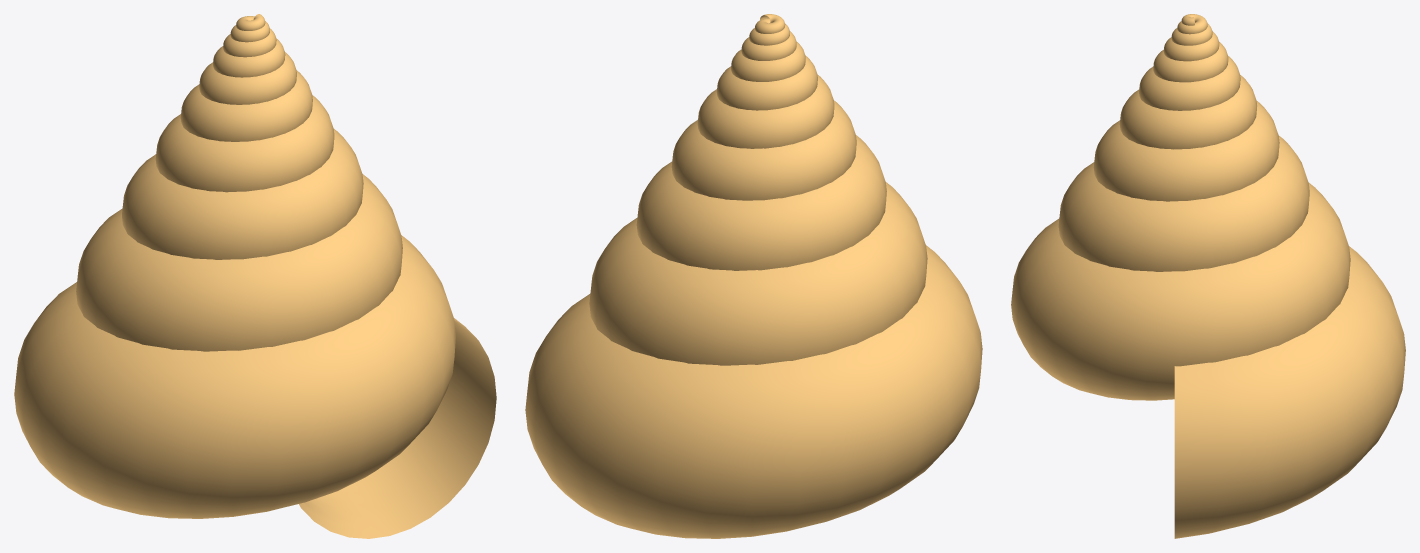
Rendered from seashell4_edit_for_FBX.fbx.
3 views of the same model, side by side, from view 1: azimuth 30°, elevation 25°; view 2: azimuth 150°, elevation 25°; view 3: azimuth 270°, elevation 25° (orthographic). The views are drawn at different scales.
Visible parts, largest first — view 1: seashell4; view 2: seashell4; view 3: seashell4.
Part boxes in pixels (left/top/right/bottom): seashell4: left=14, top=14, right=496, bottom=538; seashell4: left=525, top=14, right=982, bottom=538; seashell4: left=1011, top=14, right=1405, bottom=538.
Bounding box in the file's own units: 407 × 485 × 377.
